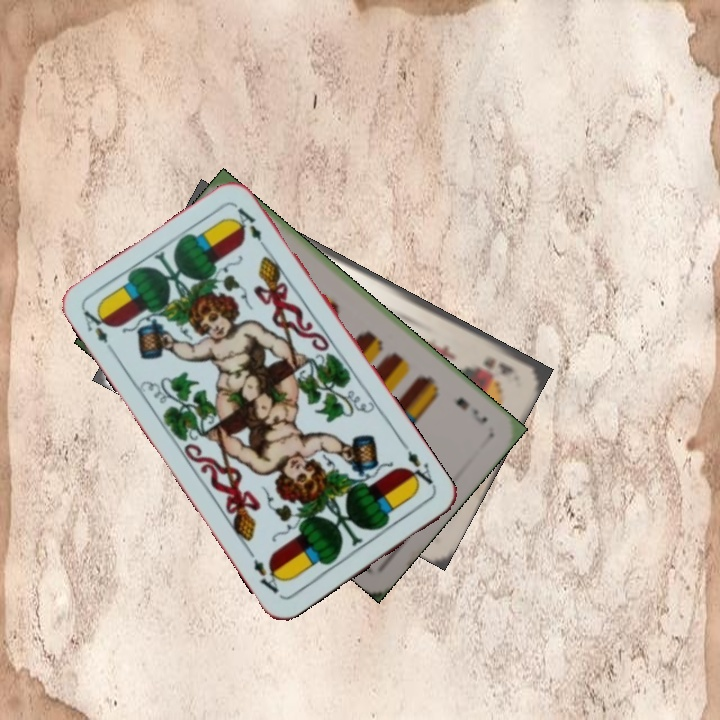E7: (451, 393, 490, 427)
EA: (79, 303, 119, 358), (398, 440, 439, 492)
SK: (480, 353, 518, 378)
